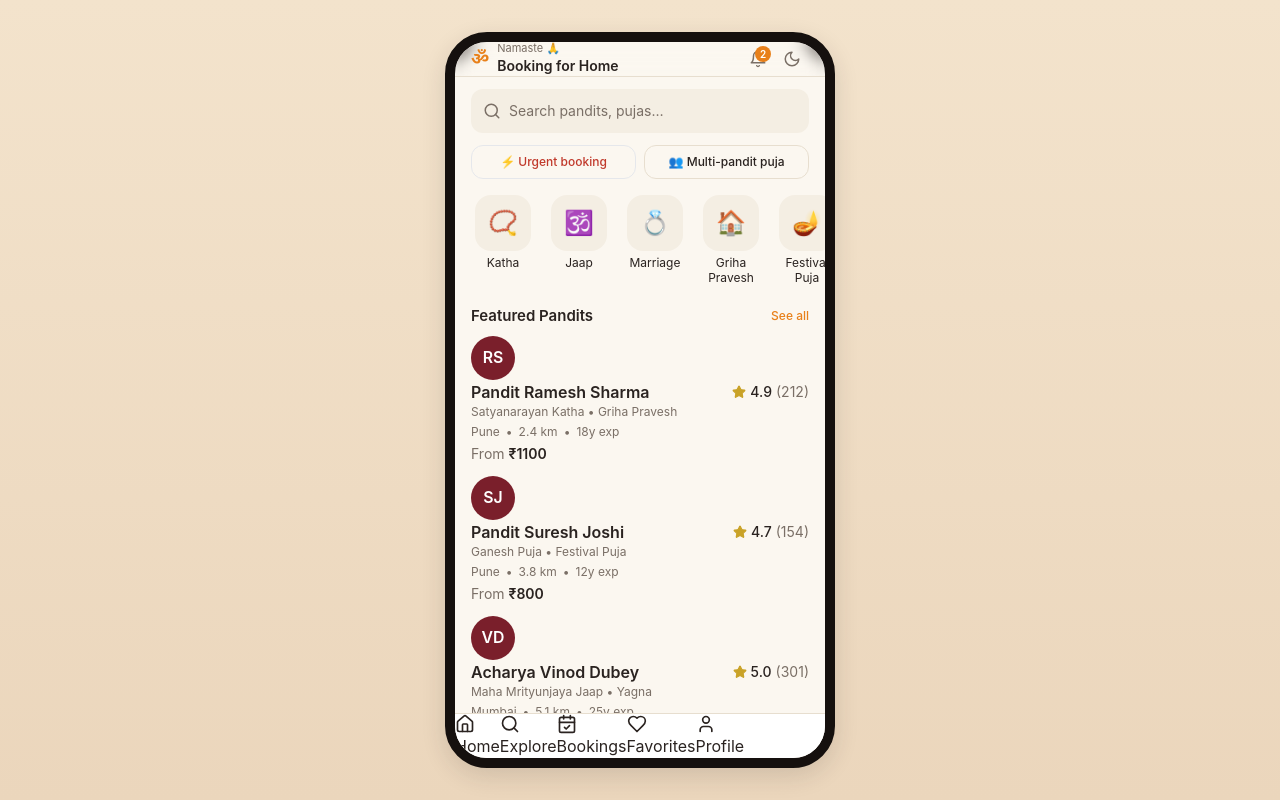
Scenario: discovery flow › Home → Explore → open a pandit detail → see reviews
Step 1. Click the heading "Pandit Ramesh Sharma" → (560, 392), box 471,380 -> 650,404
(page scrolled)
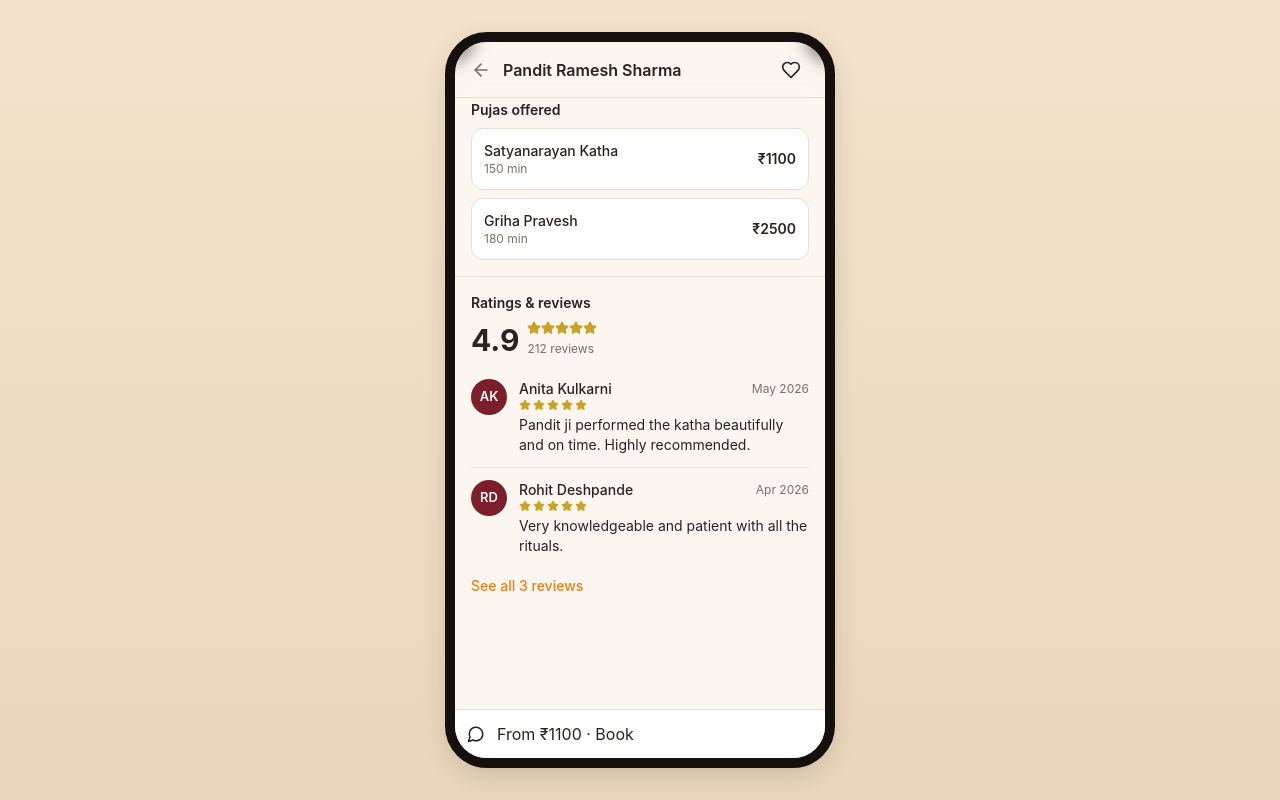
expect the heading "Pujas offered" is shown: met, box 471,101 -> 561,118
Go to all reviews
Step 2. Click the button "See all 3 reviews" → (527, 586), box 471,576 -> 583,596
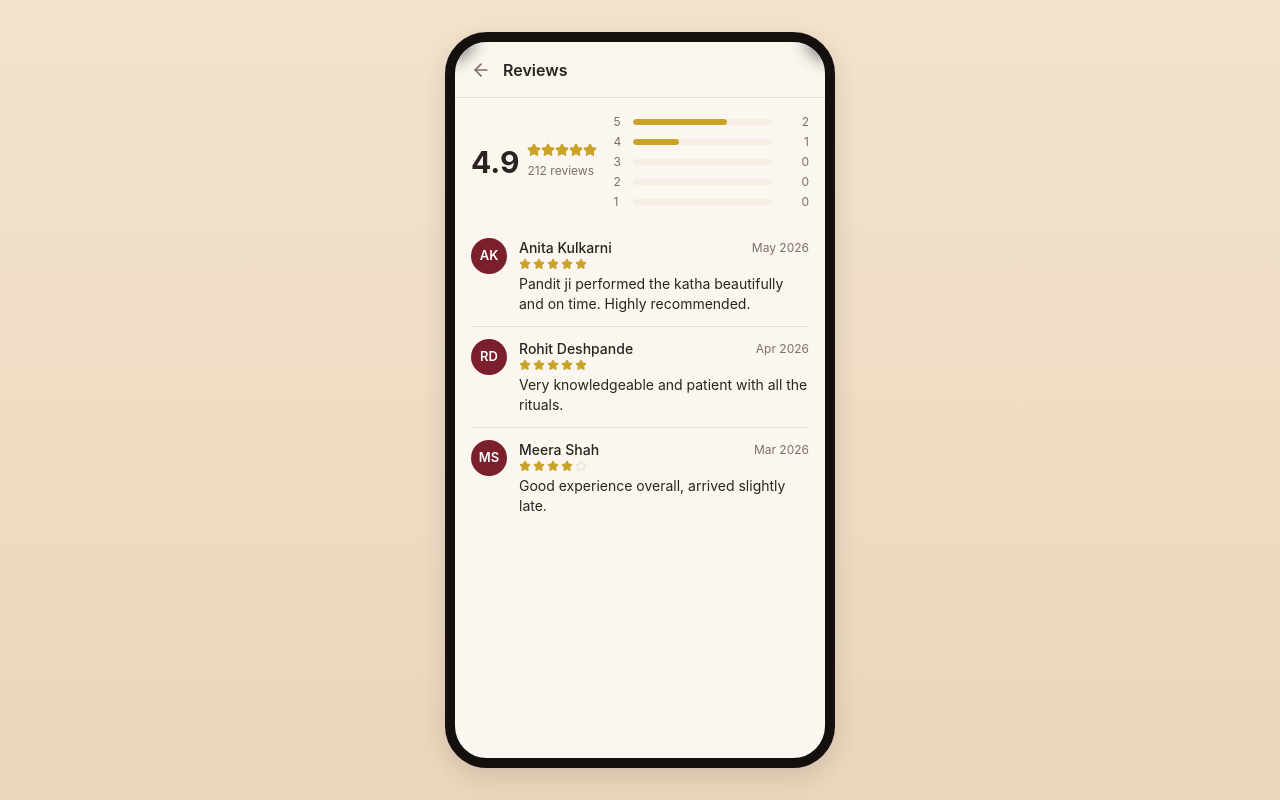
expect the text "Reviews" is shown: met, box 503,60 -> 567,80
